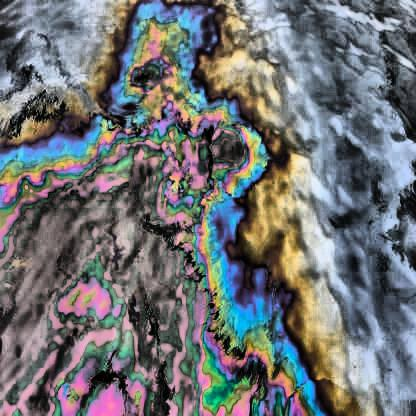rainbow: (0, 0, 378, 416)
